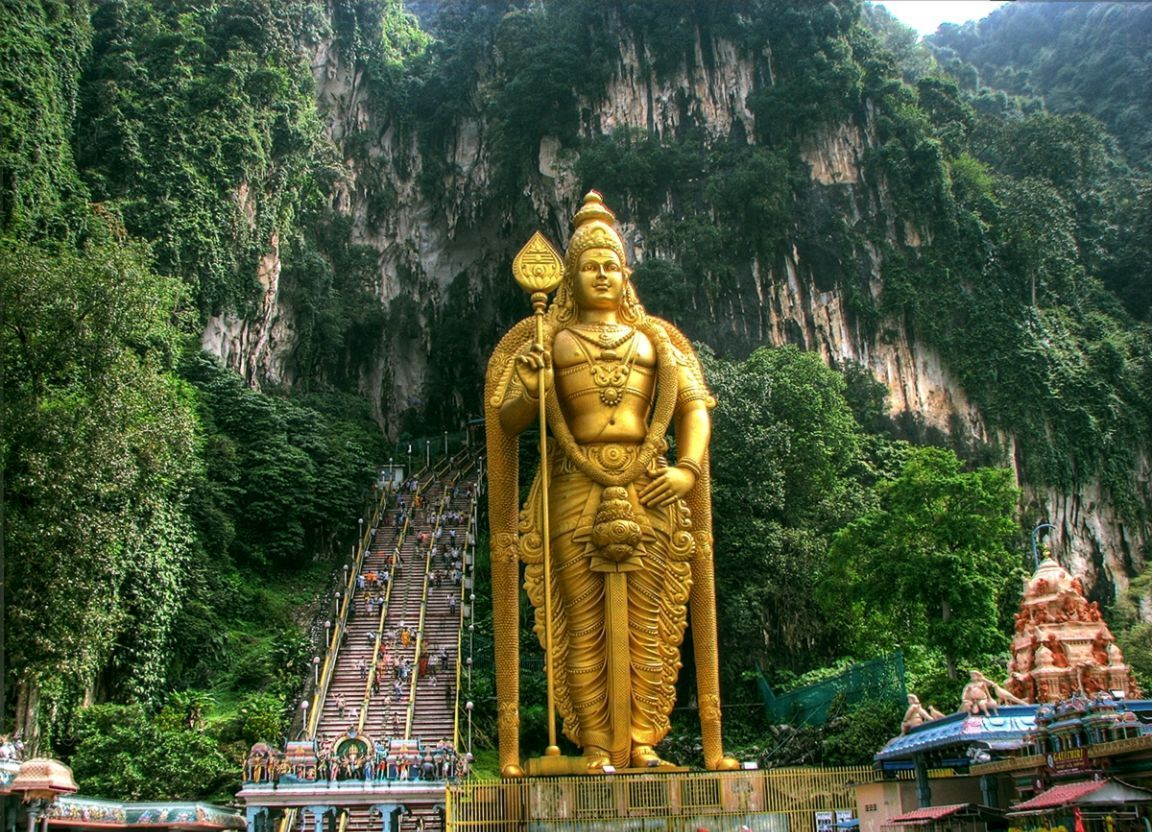Hindu Temple: (468, 174, 723, 765)
